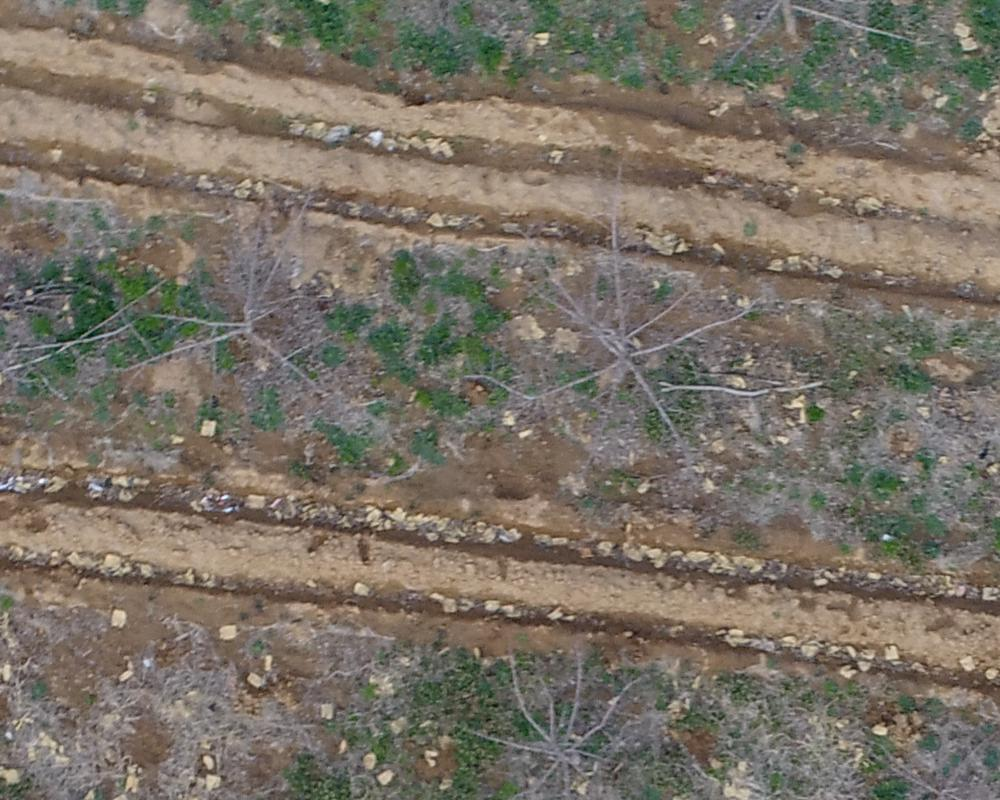apple: (442, 172, 749, 470), (102, 179, 373, 444), (448, 626, 650, 790)
